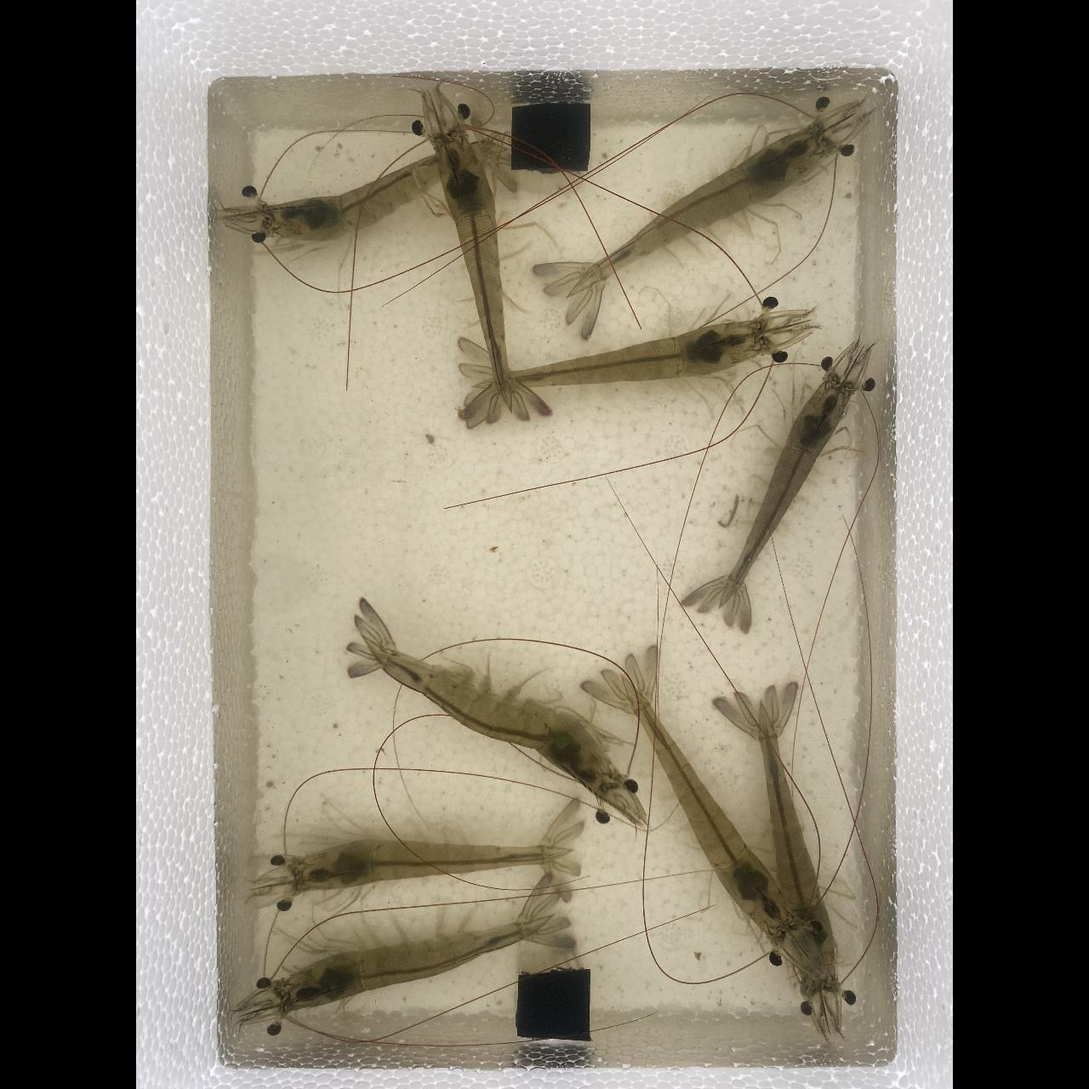box: (510, 100, 590, 172), (516, 968, 590, 1040)
top_shrimp: (565, 126, 827, 294), (628, 687, 798, 936), (368, 641, 614, 788), (368, 641, 614, 786), (721, 379, 849, 601), (282, 919, 544, 1007), (759, 711, 835, 984), (439, 131, 509, 407), (497, 323, 766, 390), (265, 150, 444, 240), (298, 837, 567, 890)
